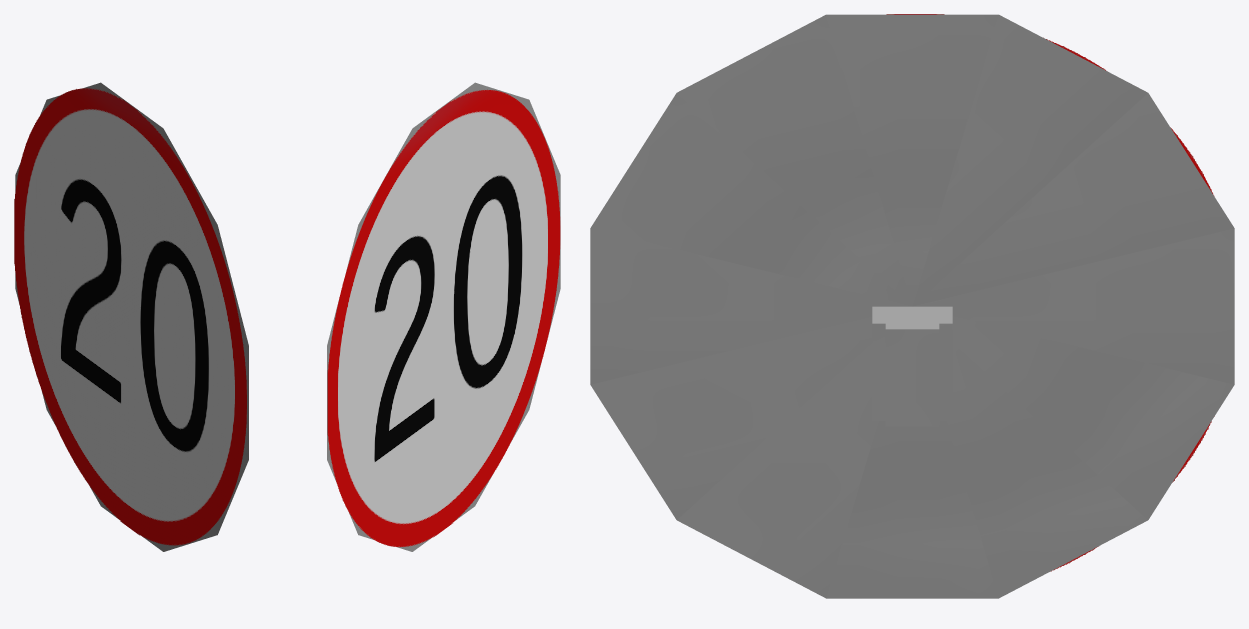
The model's file is speed_20_medium.obj.
The picture shows the model from 3 angles, left to right: view 1: azimuth 30°, elevation 25°; view 2: azimuth 150°, elevation 25°; view 3: azimuth 270°, elevation 25°; orthographic projection. The views are drawn at different scales.
Visible parts, largest first — view 1: cube, circle; view 2: cube, circle; view 3: circle, cube.
Part boxes in pixels (x1,y1,x2,y2): cube: (14,88,246,545); circle: (15,82,248,551); cube: (327,89,560,547); circle: (327,82,560,551); circle: (590,14,1234,598); cube: (872,14,1214,571).
Bounding box in the file's own units: 0.0641 × 0.75 × 0.75.
Materials: 2 (2 with a texture image).
